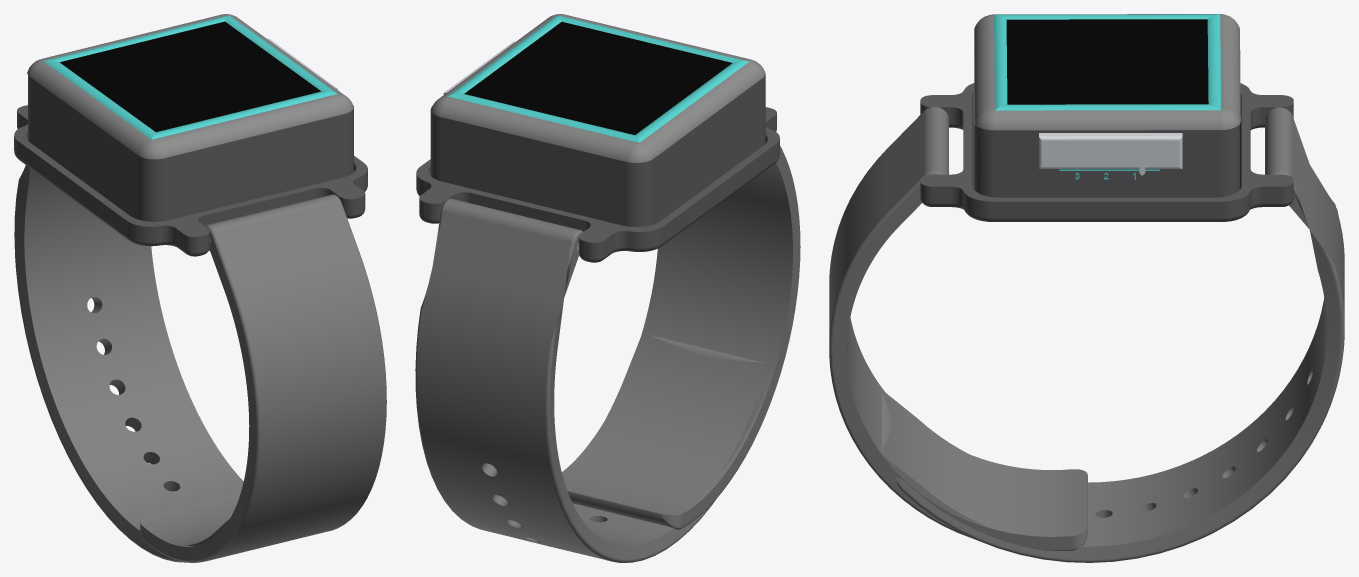
Rendered from CompliX_Robotics.glb.
3 views of the same model, side by side, from view 1: azimuth 30°, elevation 25°; view 2: azimuth 150°, elevation 25°; view 3: azimuth 270°, elevation 25° (orthographic). The views are drawn at different scales.
Visible parts, largest first — view 1: Part10_Wristband_Strap_oppside-1, Part11_Wristband_Strap-1, Part09_Upper_Pod_Lid-1, PART02_LOWERPOD_HOUSING-1, PART01_BASE-1; view 2: Part11_Wristband_Strap-1, Part10_Wristband_Strap_oppside-1, Part09_Upper_Pod_Lid-1, PART02_LOWERPOD_HOUSING-1, PART01_BASE-1; view 3: Part11_Wristband_Strap-1, Part09_Upper_Pod_Lid-1, Part10_Wristband_Strap_oppside-1, PART01_BASE-1, PART02_LOWERPOD_HOUSING-1, Part_04_Slider-1.
Boxes of the visible parts, x1=… form: Part10_Wristband_Strap_oppside-1: x1=139, y1=194, x2=386, y2=562; Part11_Wristband_Strap-1: x1=14, y1=165, x2=243, y2=562; Part09_Upper_Pod_Lid-1: x1=27, y1=14, x2=353, y2=159; PART02_LOWERPOD_HOUSING-1: x1=28, y1=75, x2=353, y2=221; PART01_BASE-1: x1=14, y1=105, x2=367, y2=256; Part11_Wristband_Strap-1: x1=415, y1=198, x2=772, y2=562; Part10_Wristband_Strap_oppside-1: x1=562, y1=146, x2=800, y2=529; Part09_Upper_Pod_Lid-1: x1=431, y1=14, x2=765, y2=162; PART02_LOWERPOD_HOUSING-1: x1=430, y1=74, x2=765, y2=226; PART01_BASE-1: x1=416, y1=107, x2=779, y2=262; Part11_Wristband_Strap-1: x1=882, y1=107, x2=1344, y2=562; Part09_Upper_Pod_Lid-1: x1=974, y1=14, x2=1240, y2=130; Part10_Wristband_Strap_oppside-1: x1=829, y1=106, x2=1087, y2=550; PART01_BASE-1: x1=920, y1=83, x2=1293, y2=221; PART02_LOWERPOD_HOUSING-1: x1=974, y1=59, x2=1239, y2=197; Part_04_Slider-1: x1=1039, y1=133, x2=1182, y2=175.
Bounding box in the file's own units: 0.04 × 0.0722 × 0.0718.
